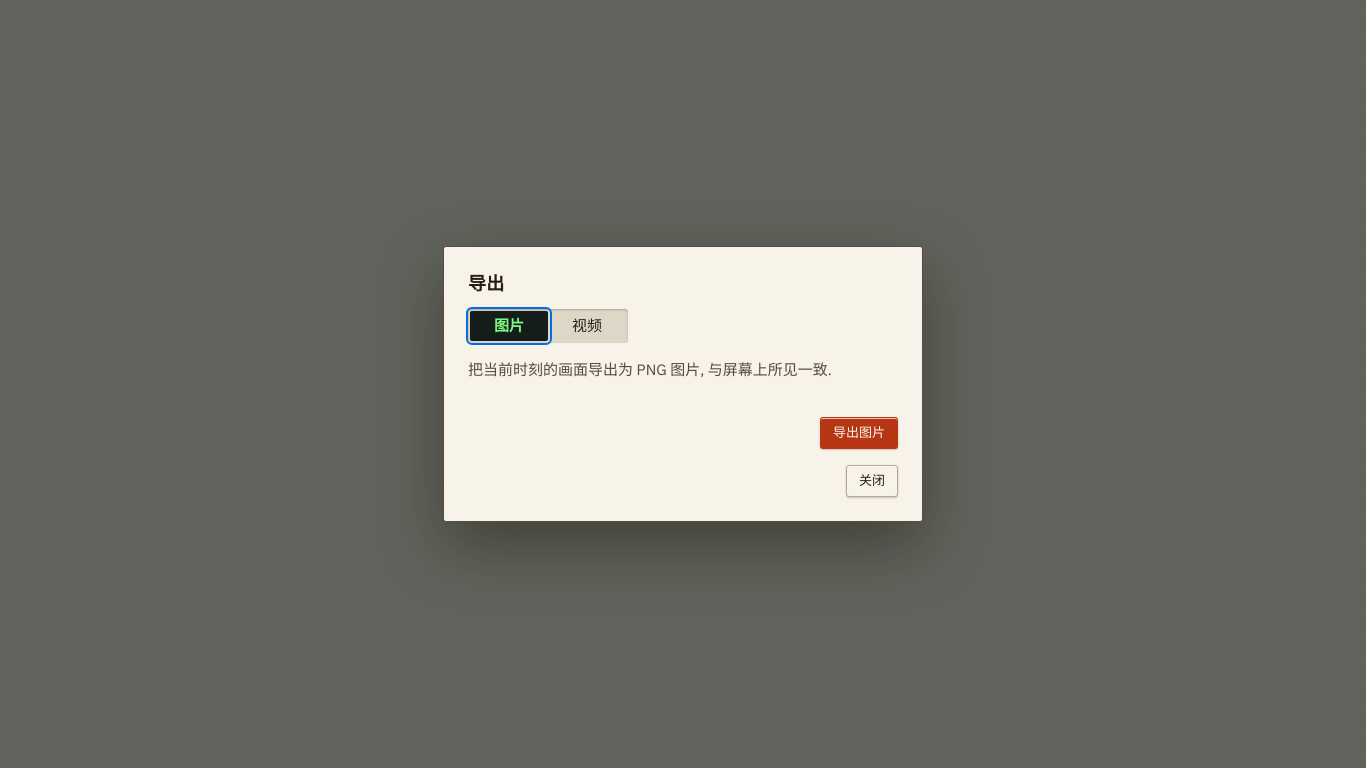
it: ExportDialog › defaults to the loop region when one is set
Click the tab "视频" at (587, 326), box [548,311,626,341]
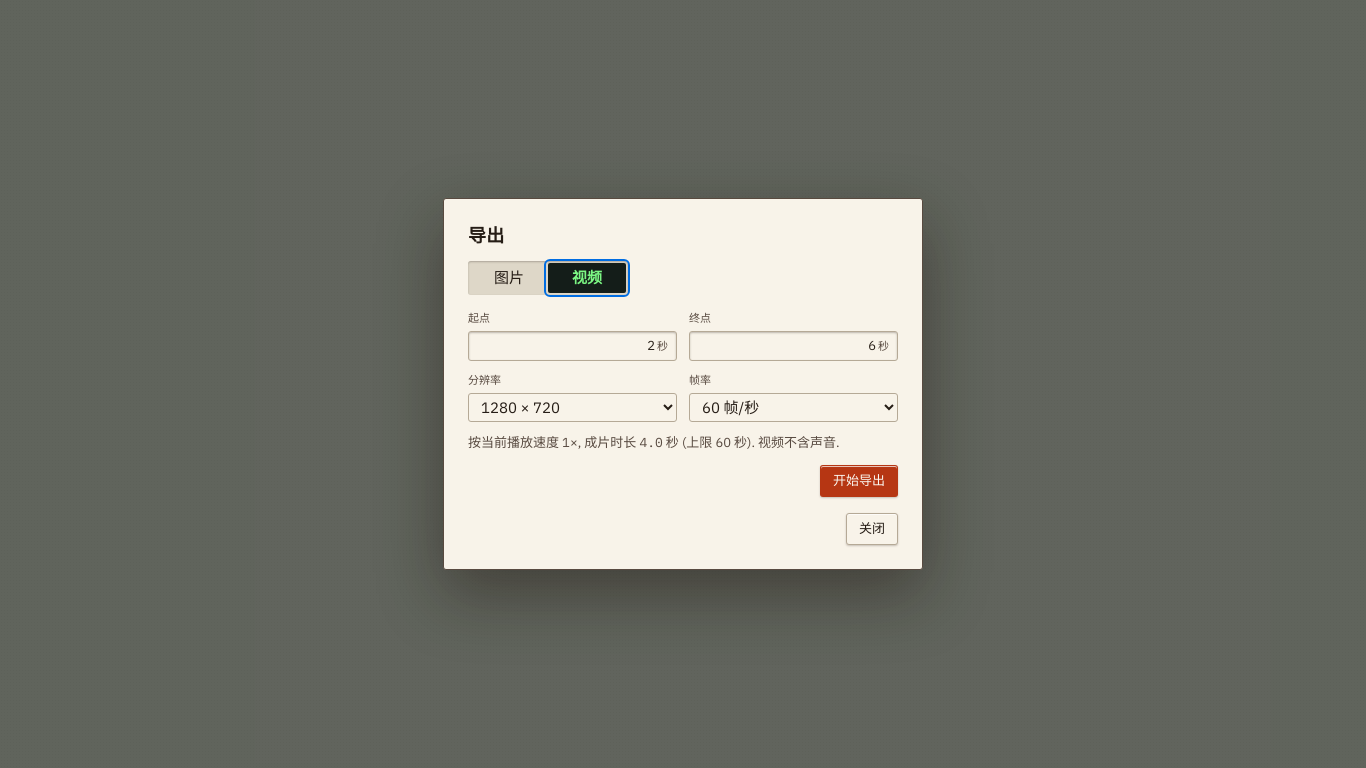
Expected: the panel is shown, [468,311,898,497]
Result: the field labelled "起点" holds "2" at [477,334,655,358]
Result: the field labelled "终点" holds "6" at [698,334,876,358]
